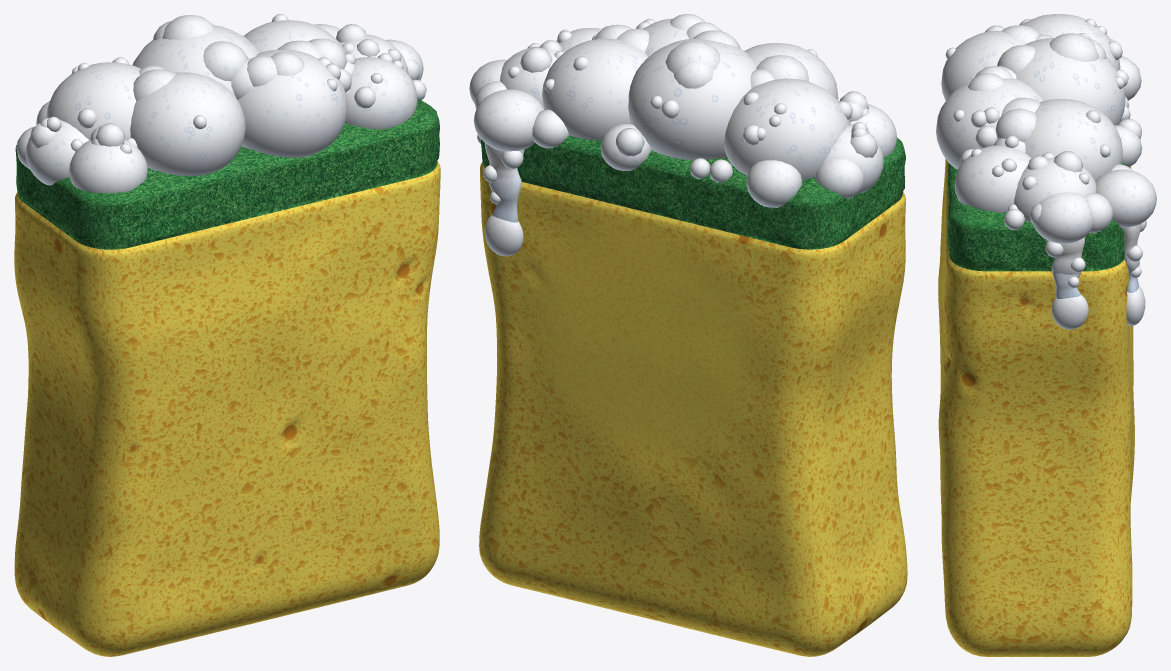
The model's file is sponge.glb.
3 renders of one model, left to right at view 1: azimuth 30°, elevation 25°; view 2: azimuth 150°, elevation 25°; view 3: azimuth 270°, elevation 25°, orthographic. The views are drawn at different scales.
Visible parts, largest first — view 1: sponge; view 2: sponge; view 3: sponge.
Part boxes in pixels (box(x1,y1,x2,y2)): sponge: box(14, 14, 440, 656); sponge: box(469, 14, 907, 656); sponge: box(936, 14, 1156, 656).
Bounding box in the file's own units: 0.8097 × 1.12 × 0.413.
4 materials, 4 textured.
